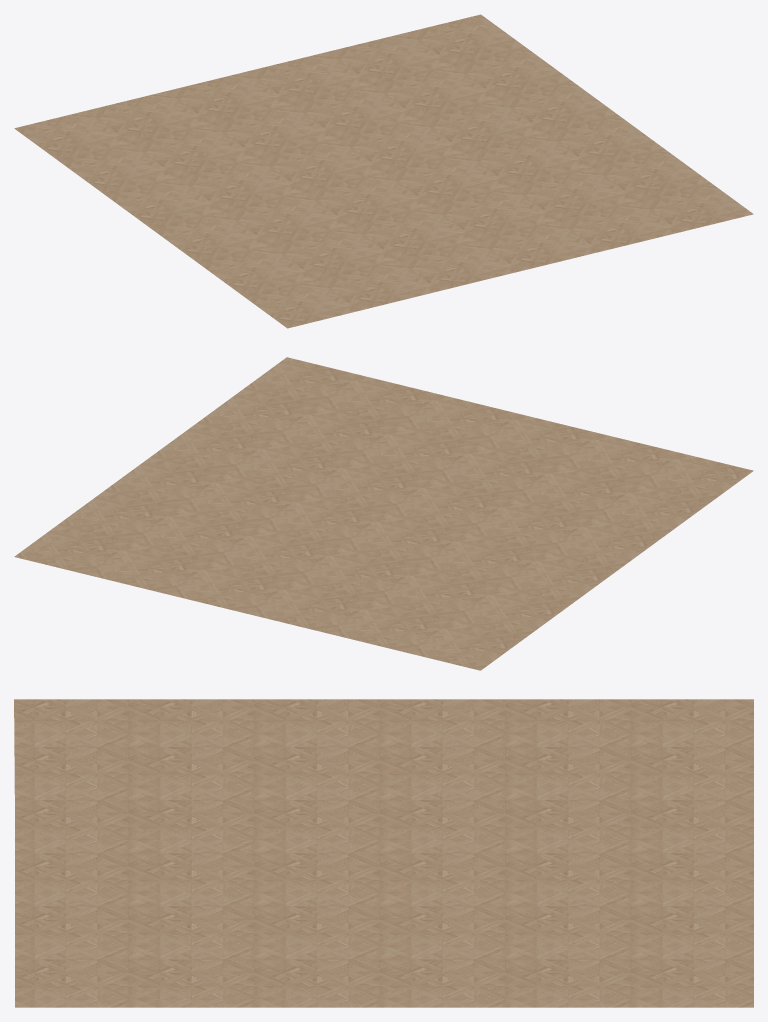
Rendered from ground.glb.
3 renders of one model, top to bottom at view 1: azimuth 30°, elevation 25°; view 2: azimuth 150°, elevation 25°; view 3: azimuth 270°, elevation 25°, orthographic. The views are drawn at different scales.
Visible parts, largest first — view 1: Floor; view 2: Floor; view 3: Floor.
Boxes of the visible parts, box(x1,y1,x2,y2) form: Floor: box(14, 14, 753, 328); Floor: box(14, 357, 753, 670); Floor: box(14, 699, 753, 1007).
Size of the model in its own units: 8.24 by 0 by 8.35.
Materials: 1 (1 with a texture image).
